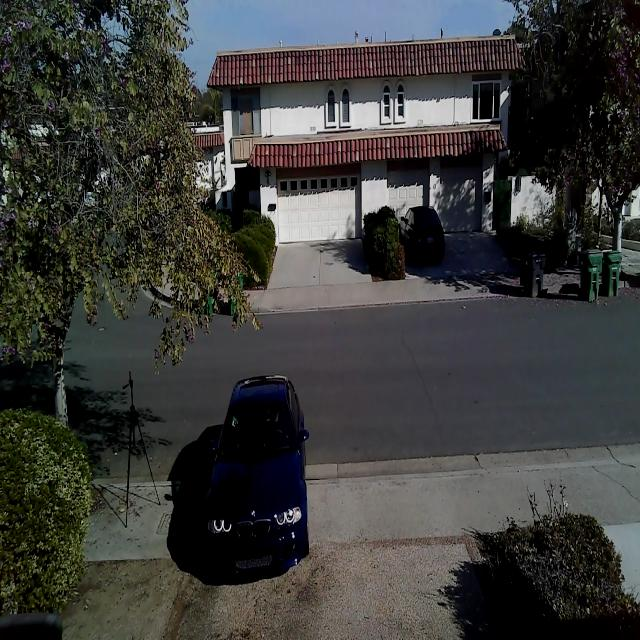Carbeetle: (188, 356, 324, 604)
